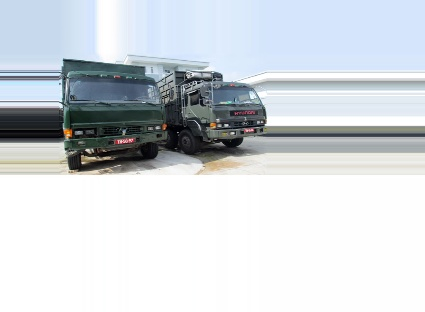plate: (111, 136, 134, 145), (242, 125, 257, 132)
